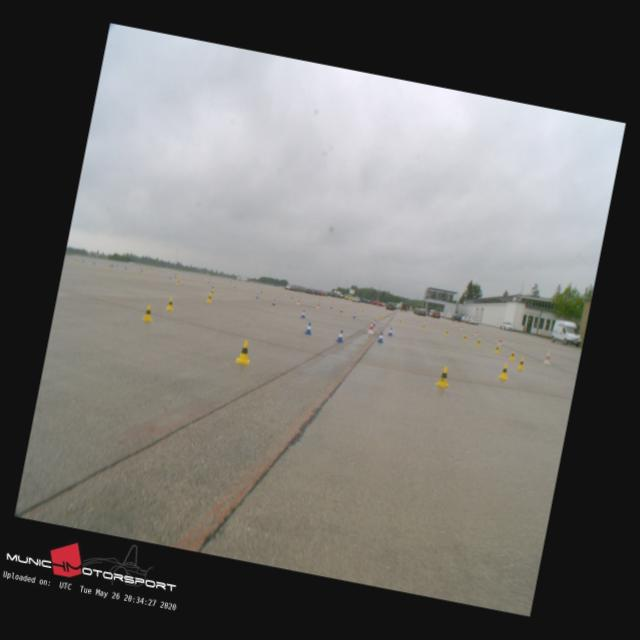blue_cone: (336, 329, 346, 342), (304, 322, 314, 335), (377, 332, 385, 344), (388, 327, 394, 337), (301, 310, 307, 318), (272, 299, 276, 306)
yellow_cone: (235, 338, 253, 364), (436, 365, 452, 387), (142, 304, 154, 322), (498, 362, 511, 378), (166, 298, 176, 310), (517, 356, 526, 369), (510, 350, 518, 361), (494, 344, 501, 354), (206, 294, 213, 302)
